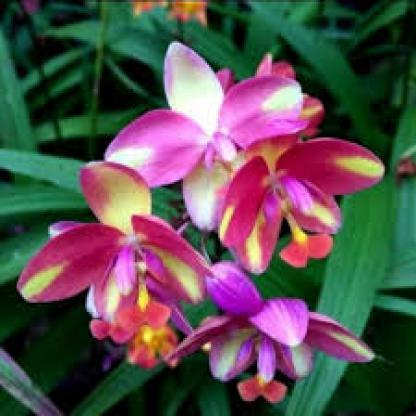ANGGREK: (18, 25, 386, 393)
